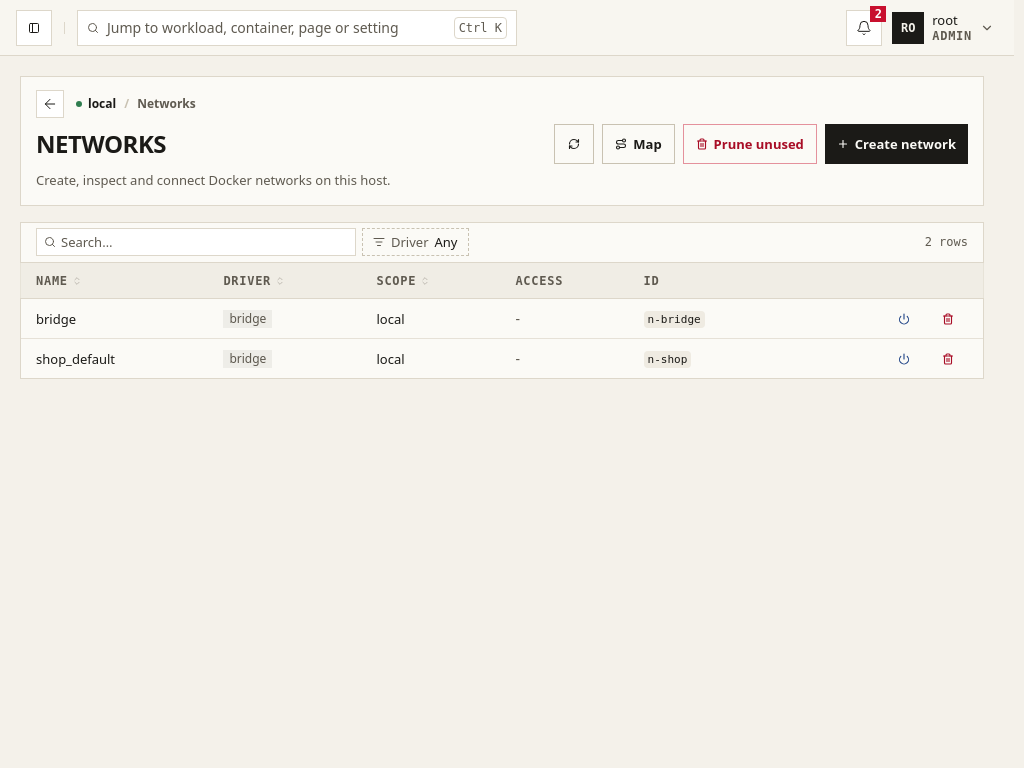
Test: networks page › connects a running container
Click the button named "connect a container to shop_default" at coordinates (904, 359), box [884, 339, 924, 379]
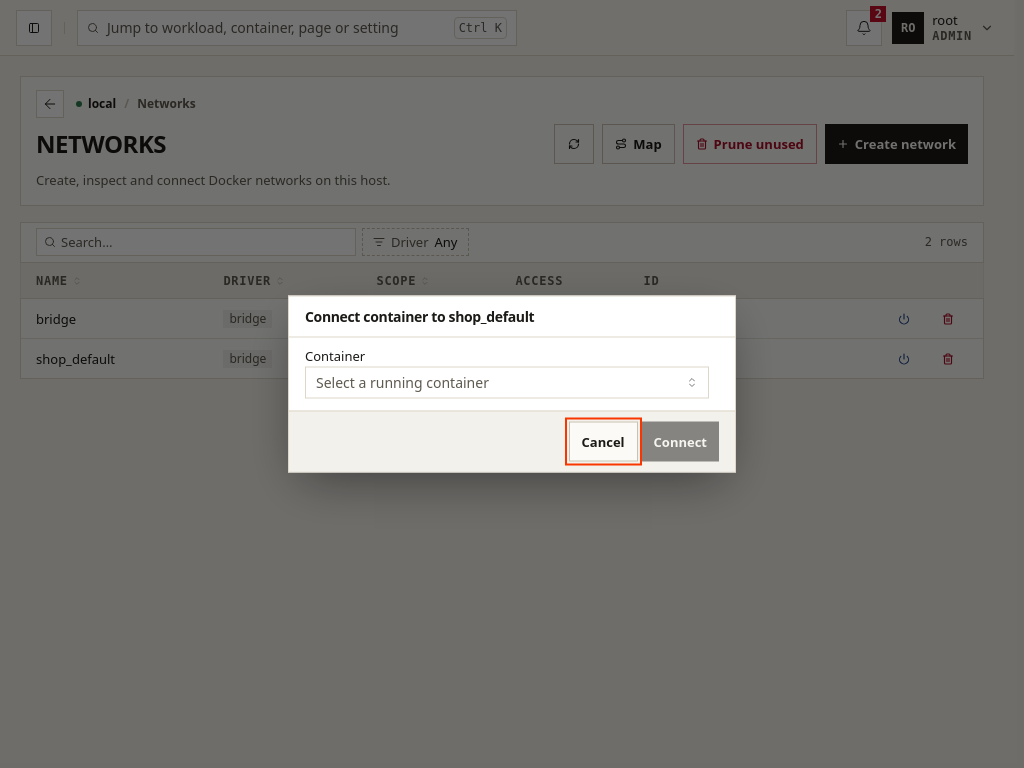
Click the dropdown labelled "Select a running container" at coordinates (402, 382), box [305, 366, 709, 398]
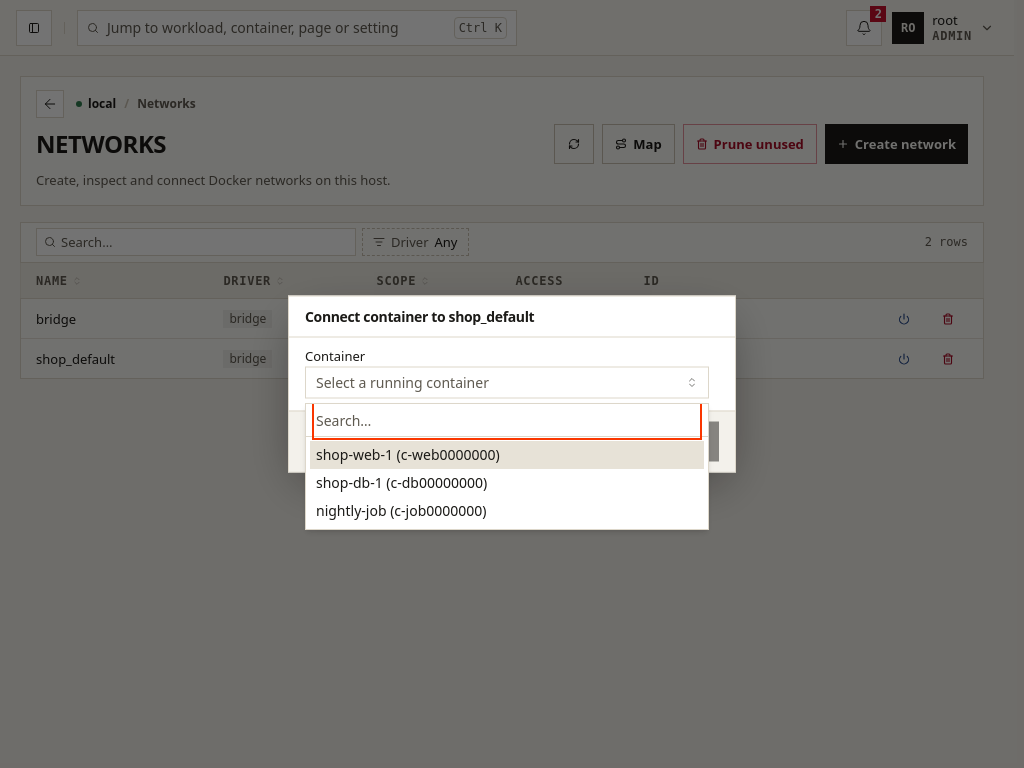
Click the option "shop-db-1 (c-db00000000)" at coordinates (402, 482), box [316, 473, 487, 492]
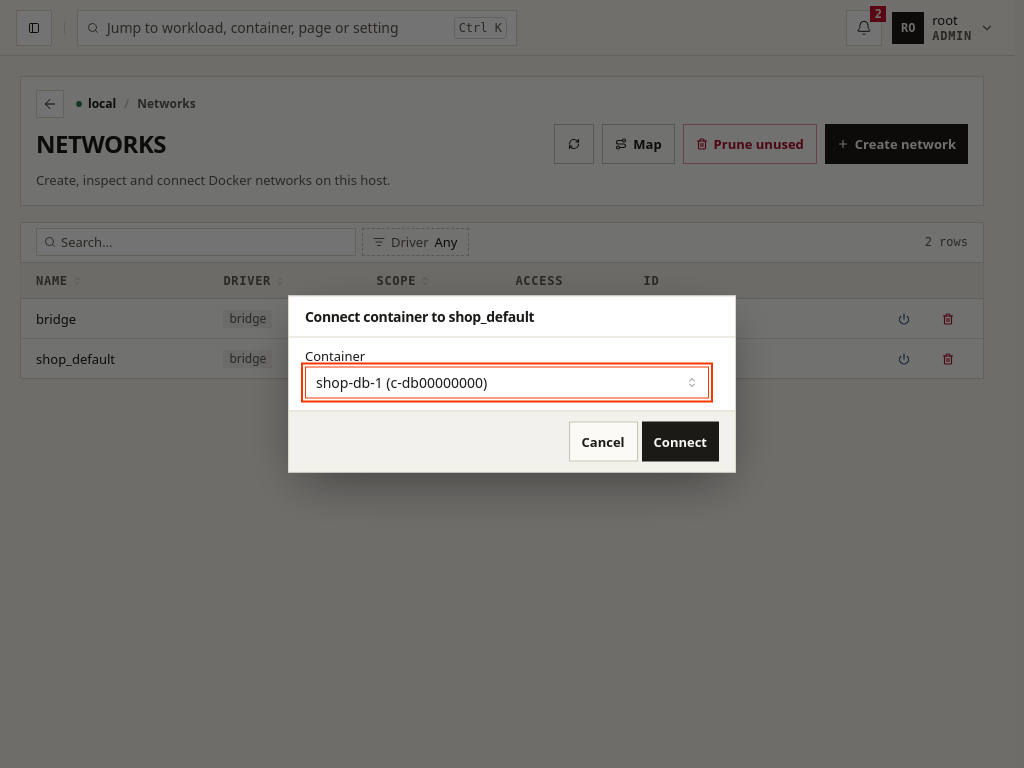
Click the button "Connect" at coordinates (680, 442), box [642, 422, 719, 462]
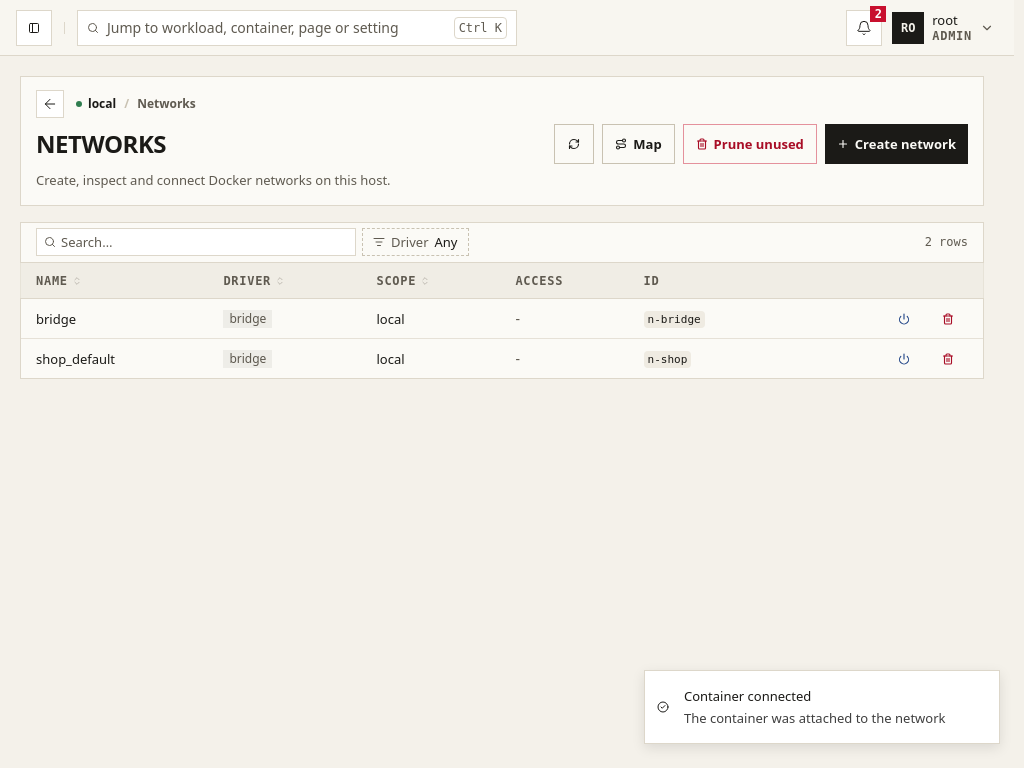
Check: the text "Container connected" is shown, box [684, 687, 811, 705]
